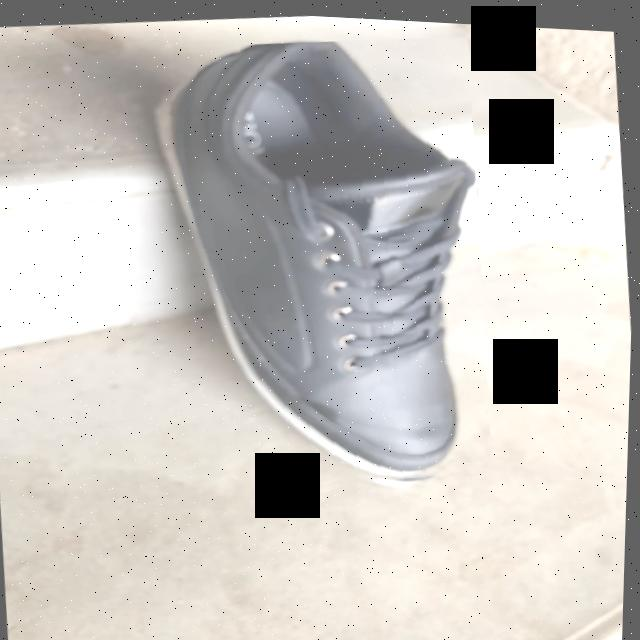shoe: (168, 37, 477, 477)
